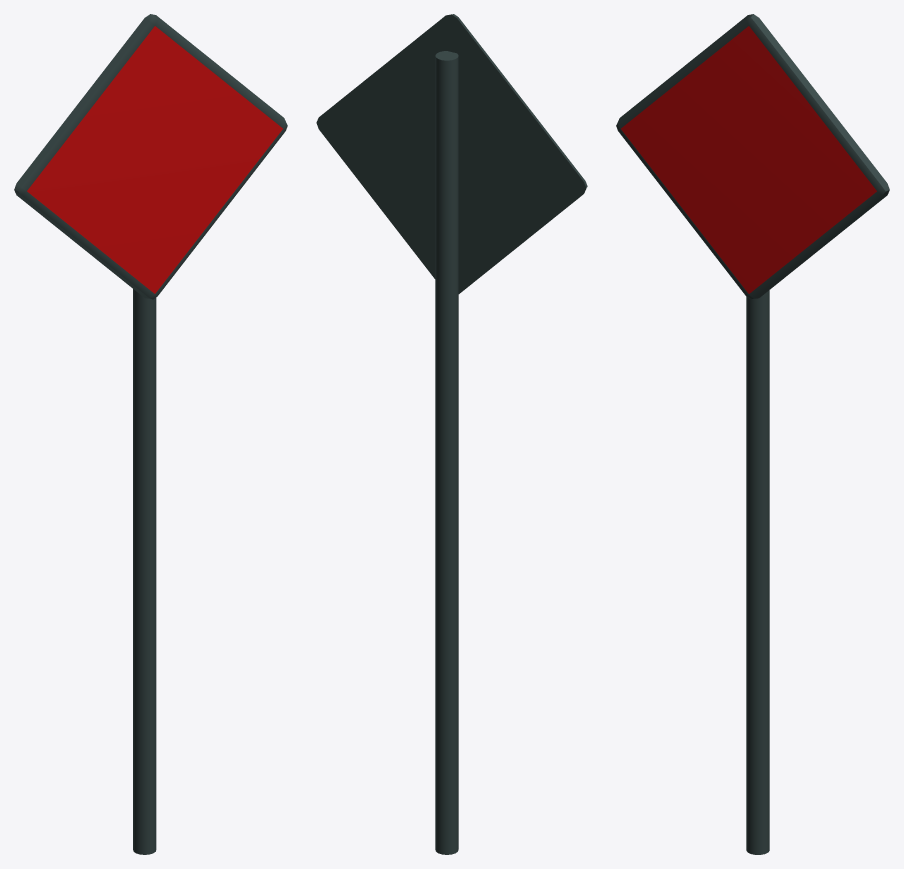
File: StopSign.fbx
The picture shows the model from 3 angles, left to right: view 1: azimuth 30°, elevation 25°; view 2: azimuth 150°, elevation 25°; view 3: azimuth 330°, elevation 25°; orthographic projection.
Visible parts, largest first — view 1: pCube96; view 2: pCube96; view 3: pCube96.
Part boxes in pixels (bbox=[...]): pCube96: bbox=[14, 14, 287, 854]; pCube96: bbox=[316, 14, 587, 854]; pCube96: bbox=[616, 14, 889, 854].
Bounding box in the file's own units: 2.19 × 6.44 × 0.2162.
